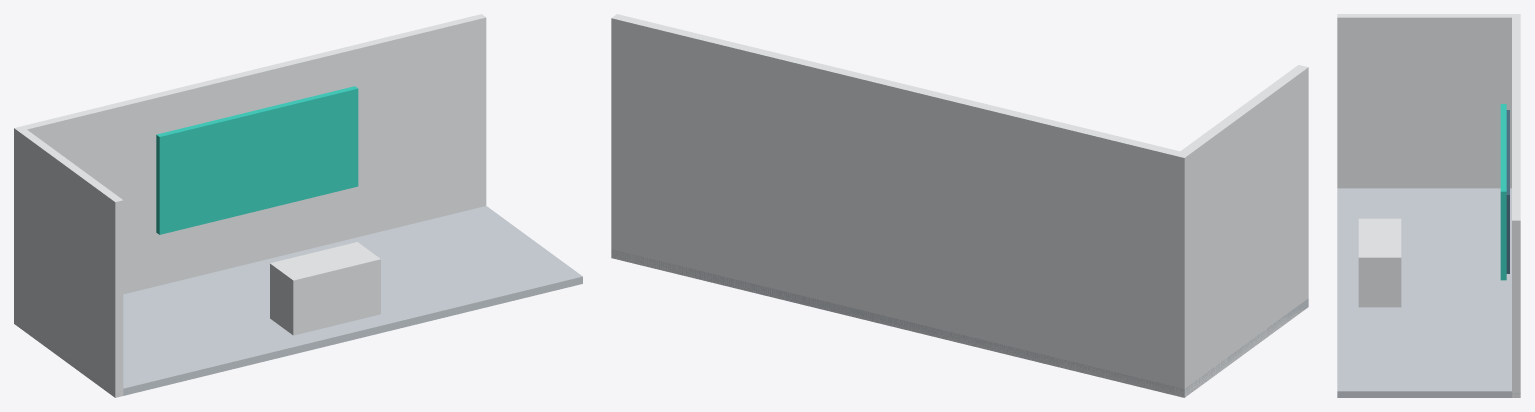
3 renders of one model, left to right at view 1: azimuth 30°, elevation 25°; view 2: azimuth 150°, elevation 25°; view 3: azimuth 270°, elevation 25°, orthographic. The views are drawn at different scales.
Parts seen in each view (by area): view 1: Exhibition Booth Concept; view 2: Exhibition Booth Concept; view 3: Exhibition Booth Concept.
Boxes of the visible parts, x1,y1,x2,y2 form: Exhibition Booth Concept: [14, 14, 582, 397]; Exhibition Booth Concept: [611, 14, 1308, 397]; Exhibition Booth Concept: [1337, 14, 1520, 397].
Bounding box in the file's own units: 8 × 3.2 × 3.
